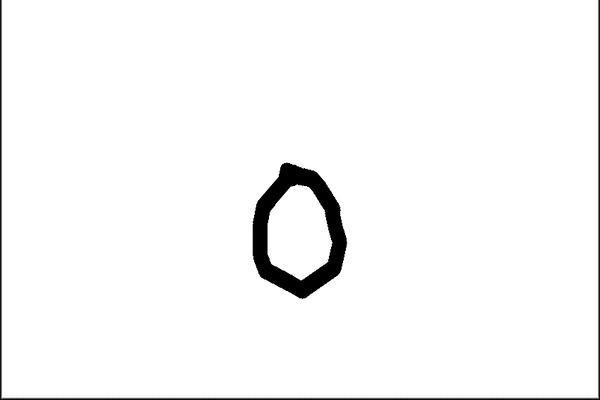O: (231, 157, 353, 301)
